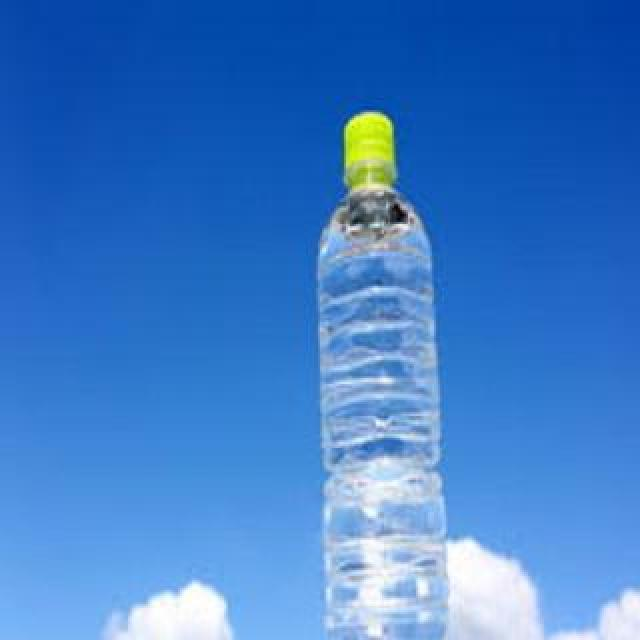Pet_Bottle: (314, 106, 452, 640)
